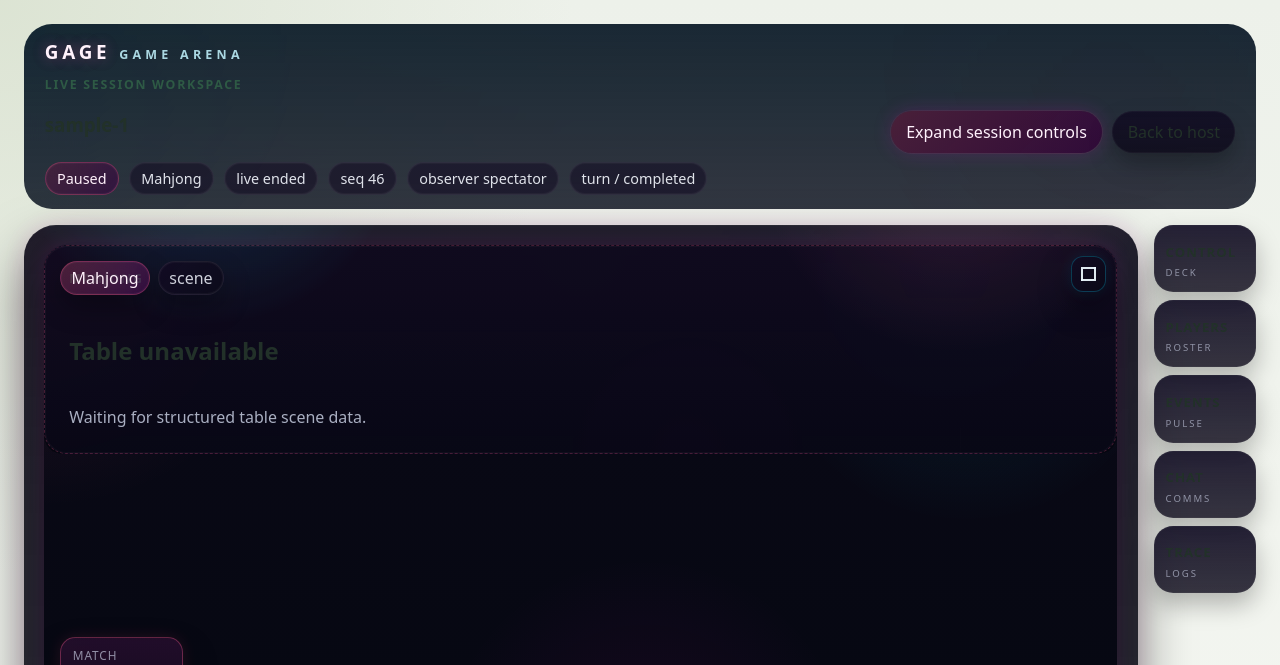
Test: SessionPage › polls session refresh while finish is pending so the host can observe closure
Click the button "Expand session controls" at (996, 132), box [891,111,1102,153]
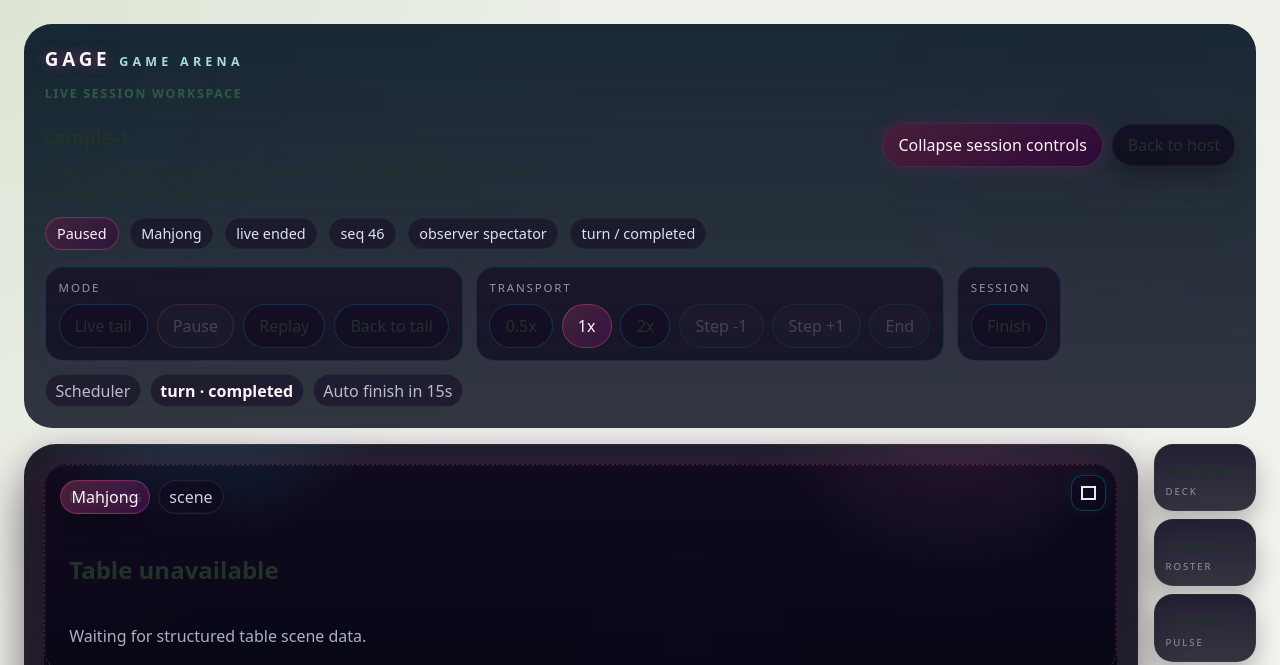
Click the button "Replay" at (284, 326), box [243,304,326,348]
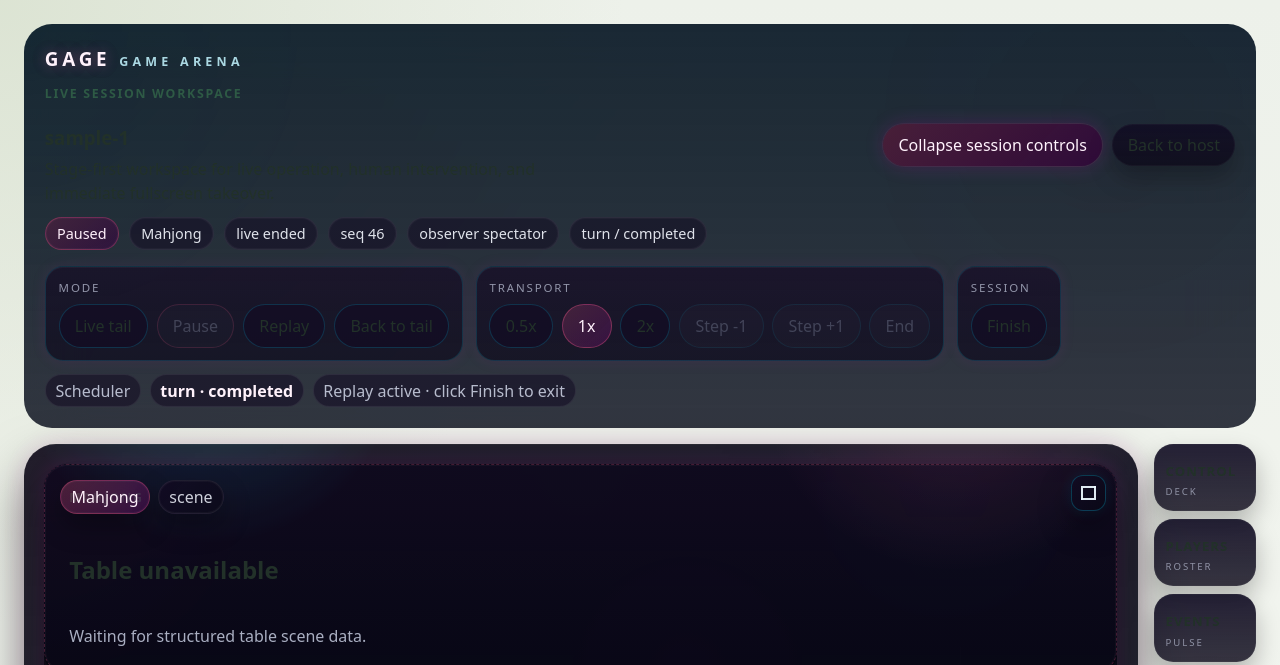
Check: the button "Finish" is shown
Click the button "Finish" at (1009, 326), box [971,304,1047,348]
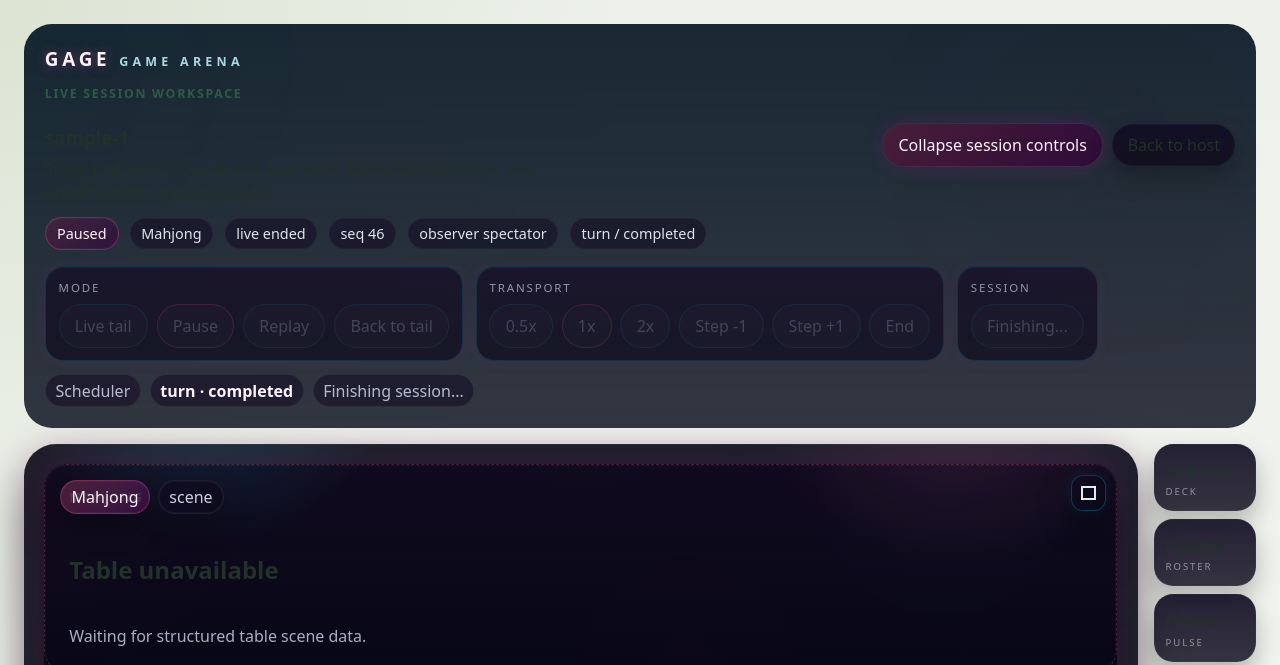
Check: the text "Finishing session..." is shown, box [313,374,474,407]
